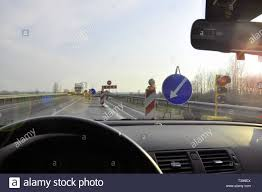obstacle: (160, 66, 193, 117), (142, 78, 157, 121), (83, 89, 112, 104), (100, 90, 105, 106)
